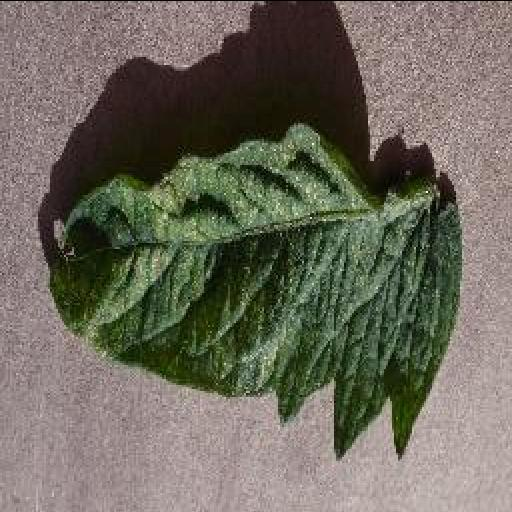disease_tomato: (44, 122, 462, 460)
